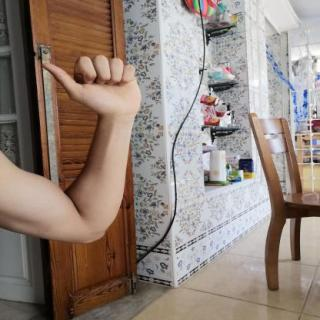DAD: (34, 51, 150, 121)
